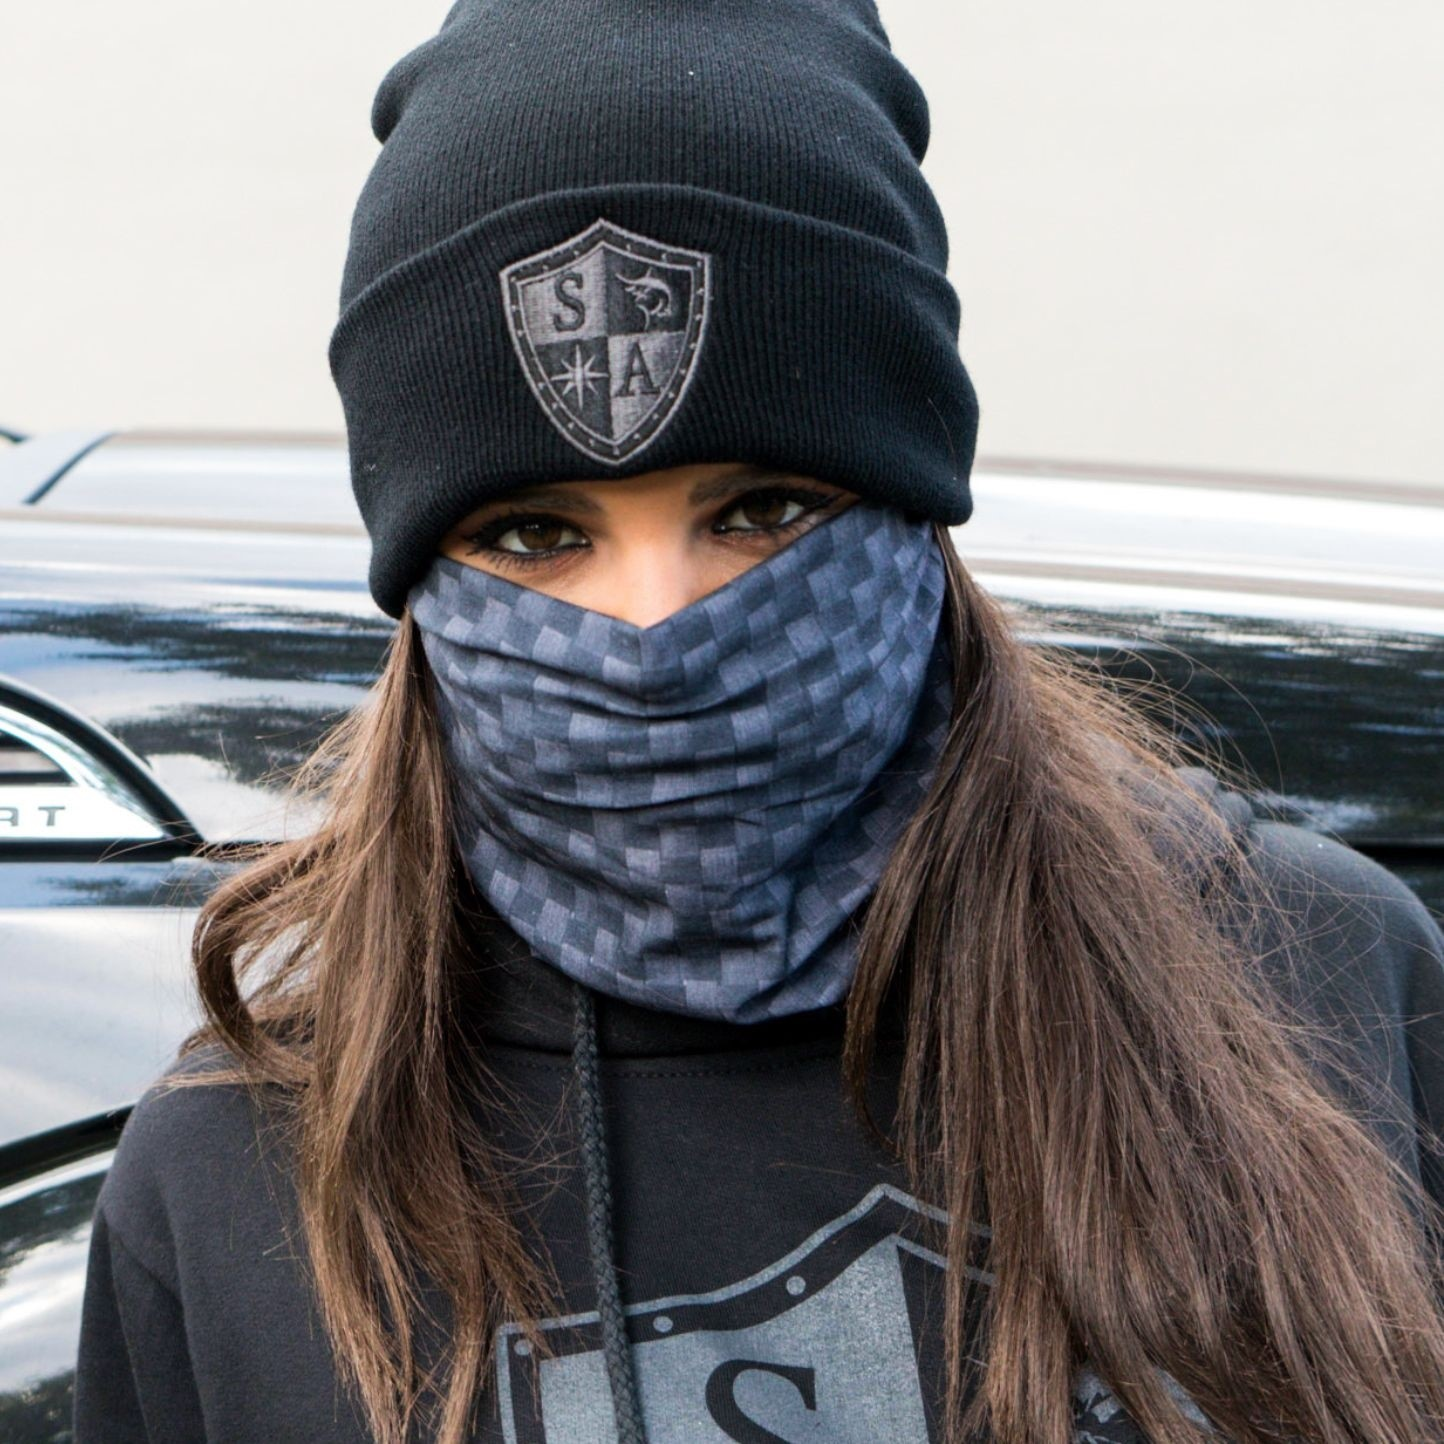face_with_mask: (326, 40, 961, 917)
